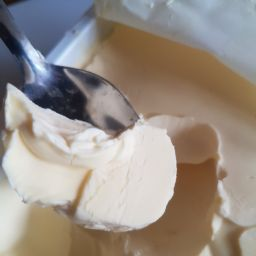Butter: (26, 15, 254, 249)
